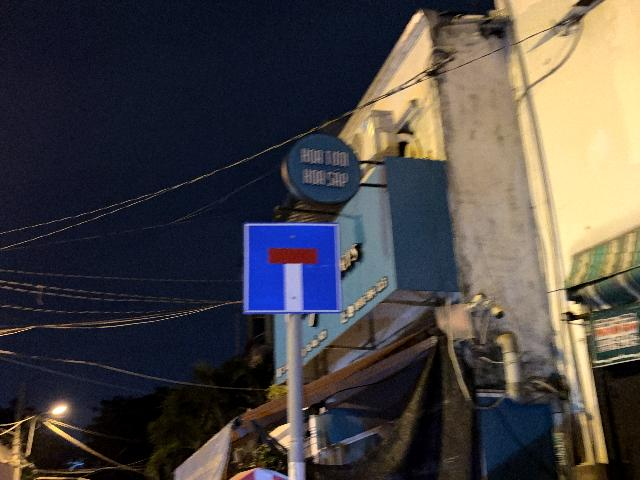duong-cut: (242, 221, 343, 314)
